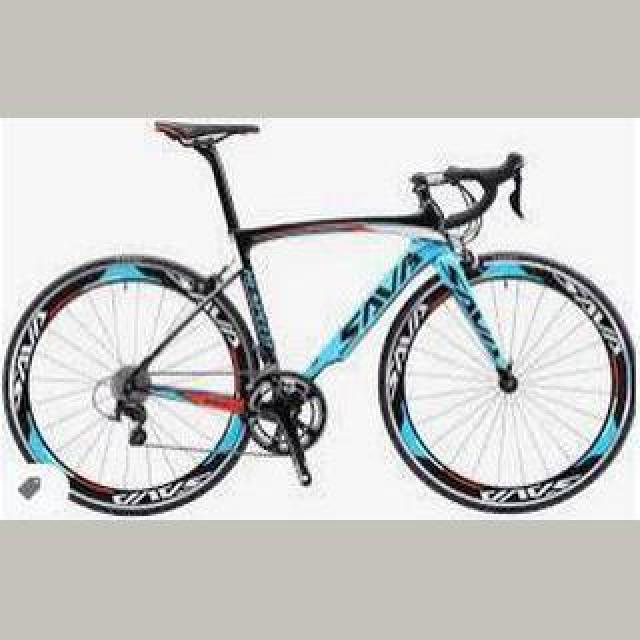Person: (2, 123, 640, 513)
